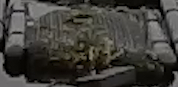bag: (6, 2, 176, 82)
